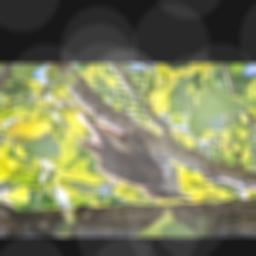Cuckoo: (73, 98, 195, 202)
